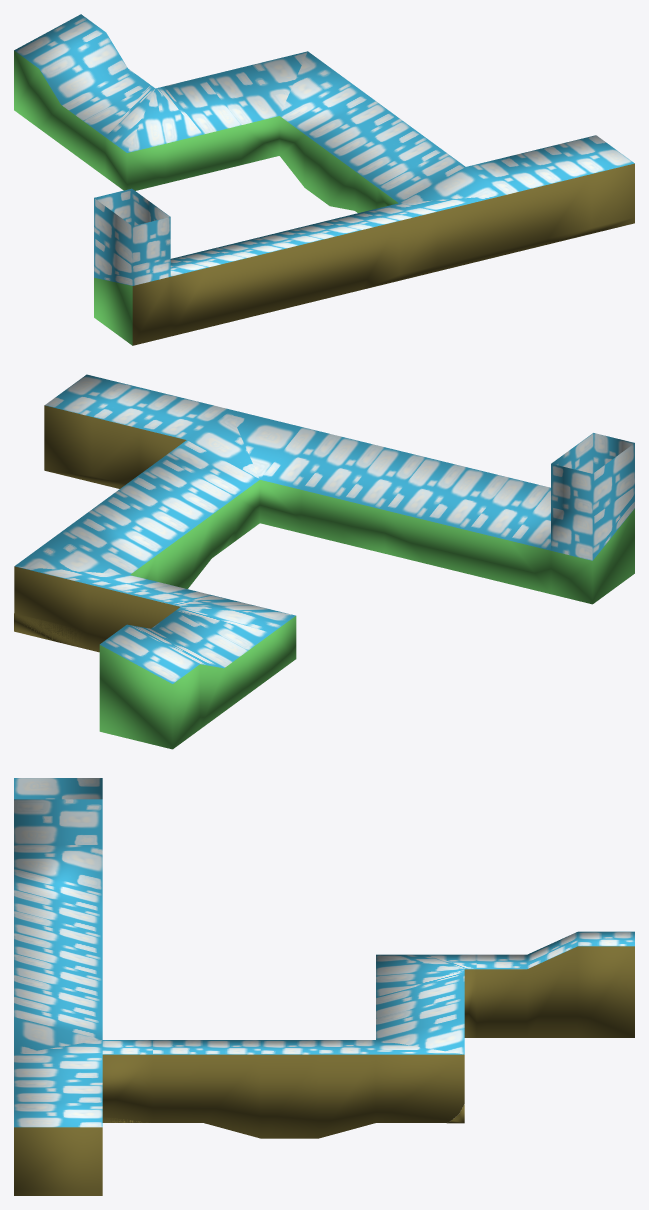
The model's file is test level.fbx.
3 renders of one model, top to bottom at view 1: azimuth 30°, elevation 25°; view 2: azimuth 150°, elevation 25°; view 3: azimuth 270°, elevation 25°, orthographic. The views are drawn at different scales.
Visible parts, largest first — view 1: Test_level; view 2: Test_level; view 3: Test_level.
Boxes of the visible parts, x1,y1,x2,y2 form: Test_level: (14,14,634,345); Test_level: (14,374,634,749); Test_level: (14,778,634,1195).
Size of the model in its own units: 3.47 by 0.8795 by 3.24.
